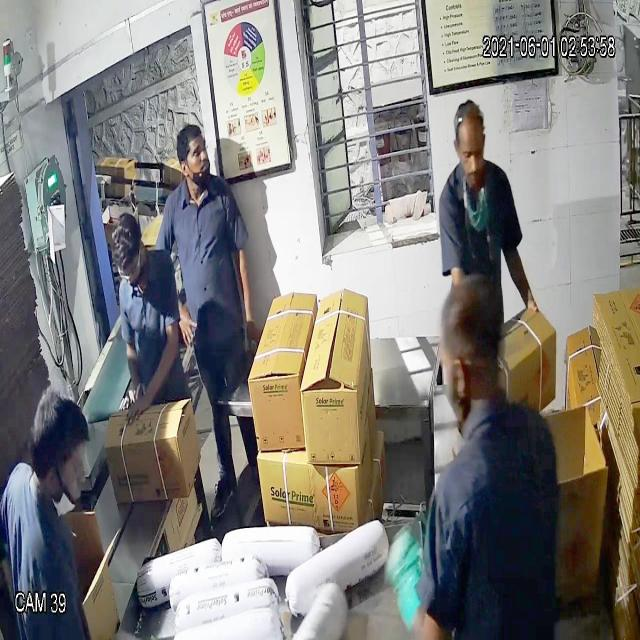glasses: (106, 241, 152, 293)
no-glass: (454, 132, 490, 170)
